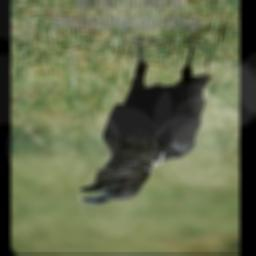Crow: (73, 31, 217, 209)
